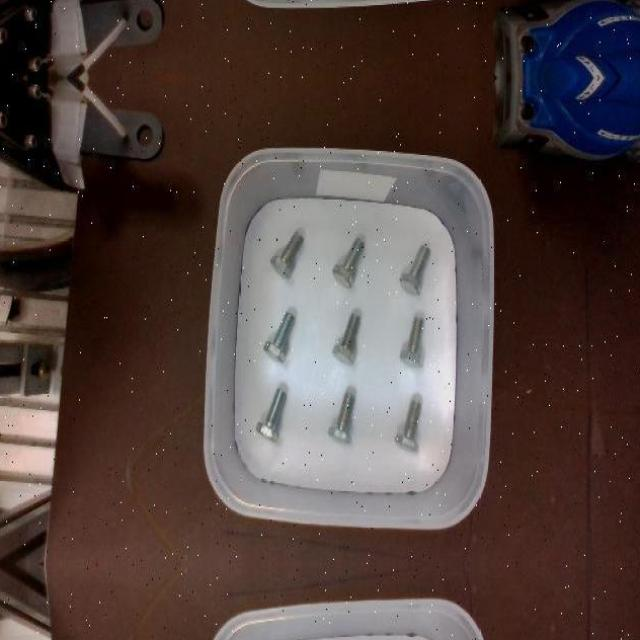screw: (256, 387, 288, 442), (270, 230, 303, 280), (332, 238, 365, 288), (263, 310, 295, 361), (399, 244, 430, 295), (332, 313, 361, 365), (327, 391, 356, 443), (395, 399, 421, 452), (400, 316, 426, 366)
